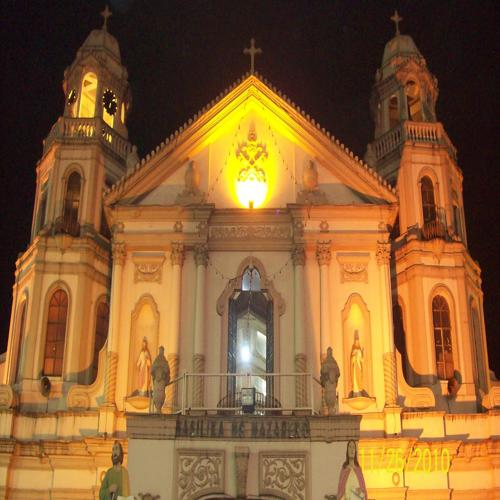Quiapo Church: (11, 4, 495, 491)
